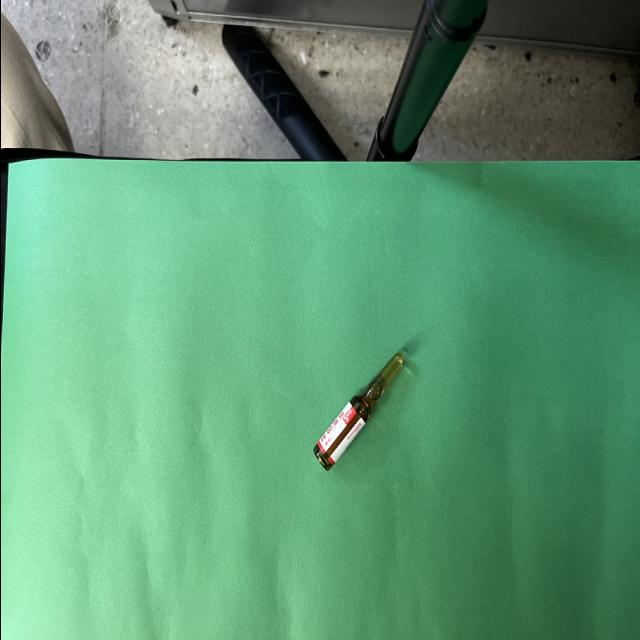Ampoules: (313, 353, 403, 470)
